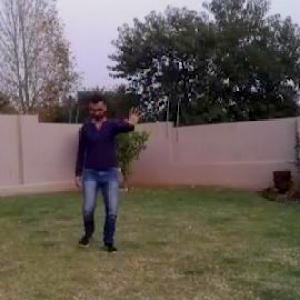follow_hand: (121, 101, 148, 130)
